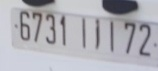1: (59, 15, 69, 45)
2: (139, 23, 152, 57)
3: (44, 12, 56, 45)
6: (18, 9, 31, 41)
7: (123, 21, 137, 55), (31, 10, 42, 42)
a: (93, 18, 103, 50)
